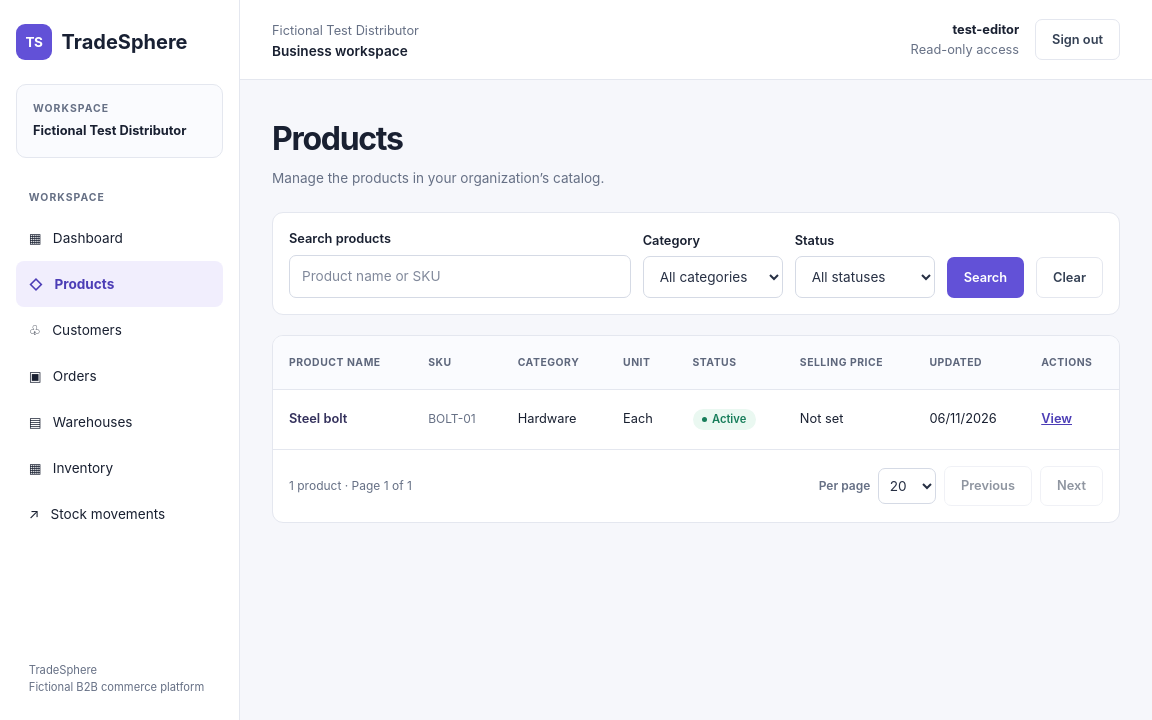
Test: catalog interactions › provides read-only detail access without create or edit controls
This screenshot has width=1152, height=720.
Expected: the link "Steel bolt" is shown, [289,412,347,426]
What coordinates should you click on to do the following:
click the link with aria-label "View Steel bolt"
I would click on:
 (1057, 419)
Its box is [1041,412,1072,426].
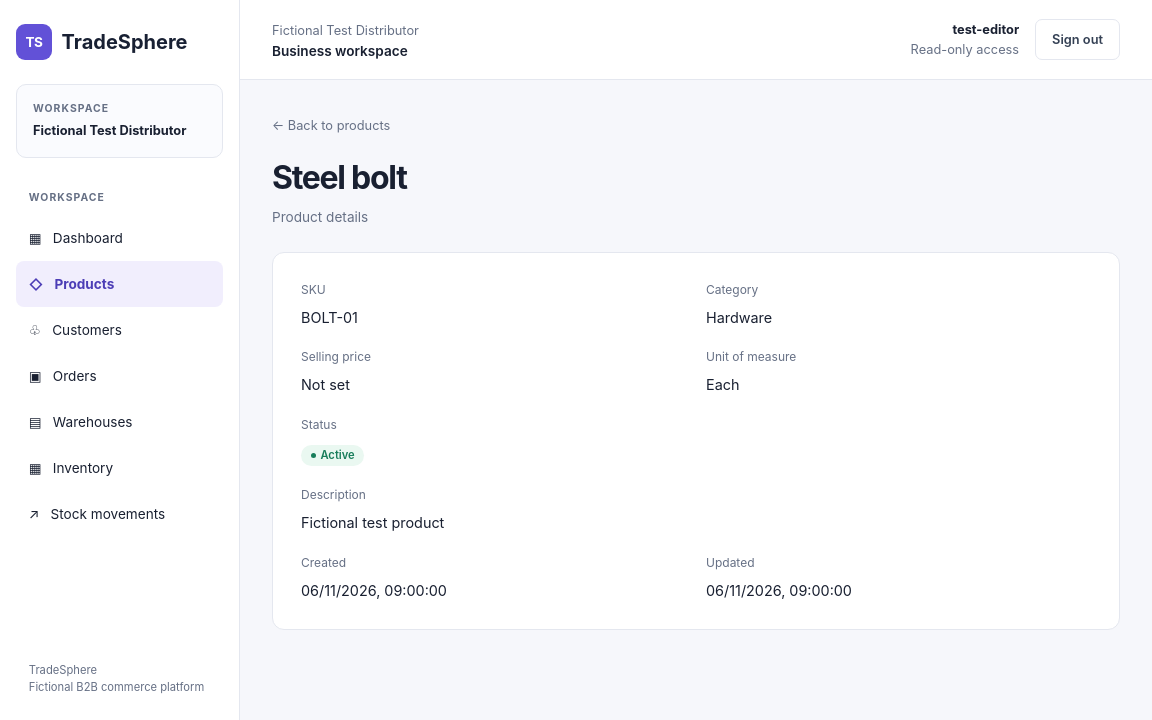
Expected: the heading "Steel bolt" is shown, [272,159,407,198]
